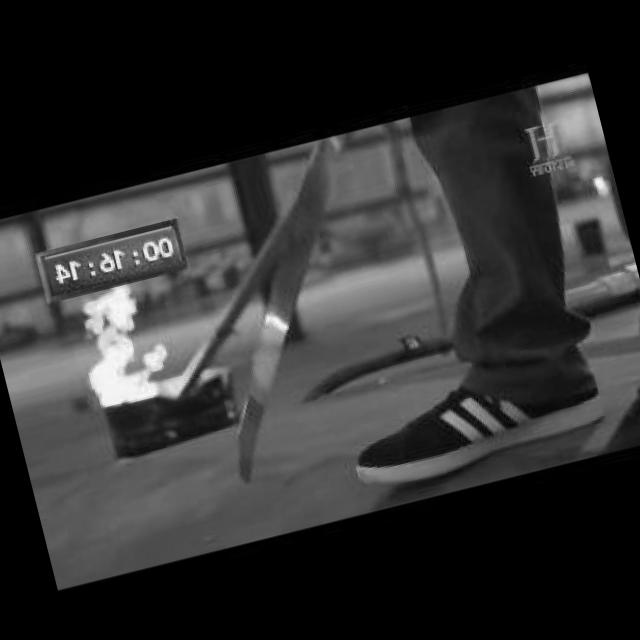fire: (68, 284, 168, 409)
